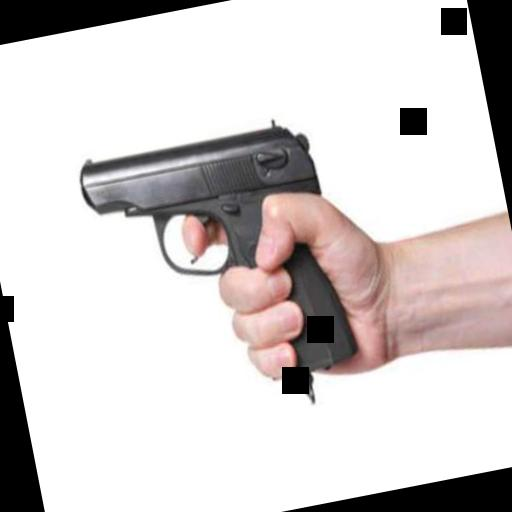Handgun: (72, 110, 362, 410)
